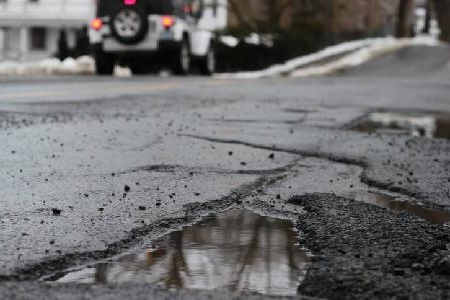pothole: (26, 193, 317, 296), (256, 148, 450, 227), (338, 106, 449, 142)
